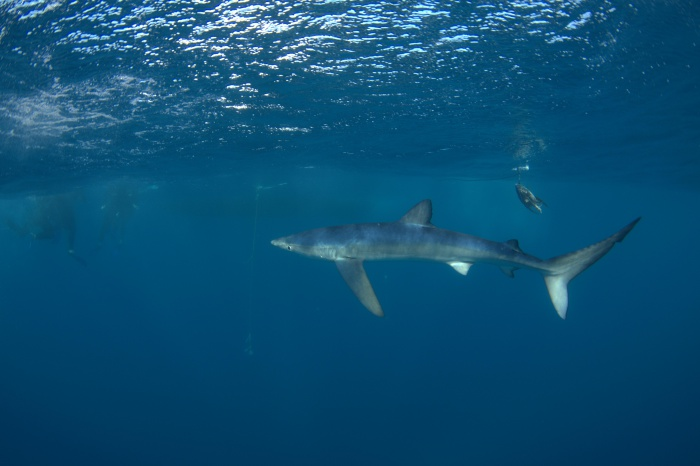Azul: (248, 192, 662, 345)
